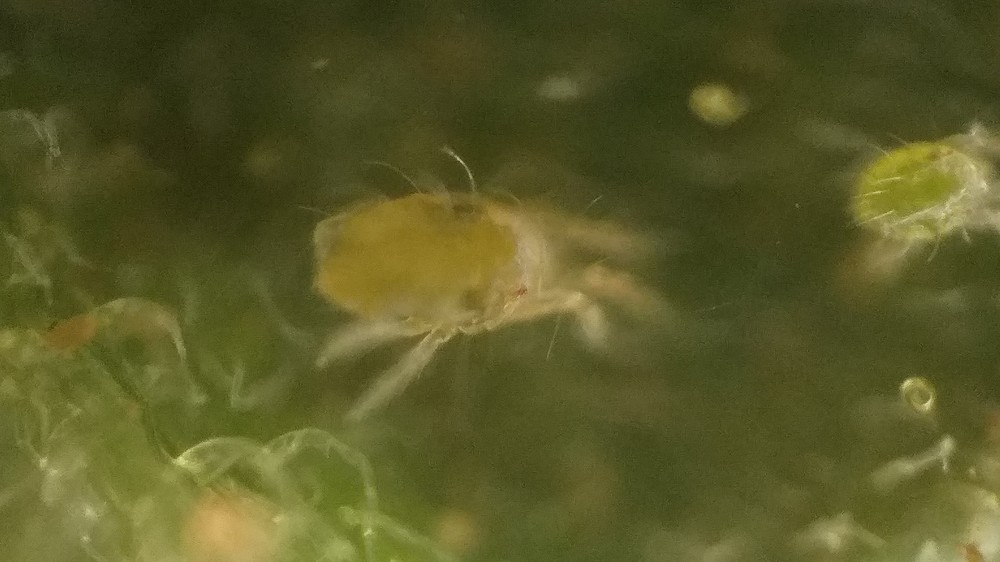Aracnido Rojo: (287, 138, 708, 421), (836, 98, 1000, 279)
